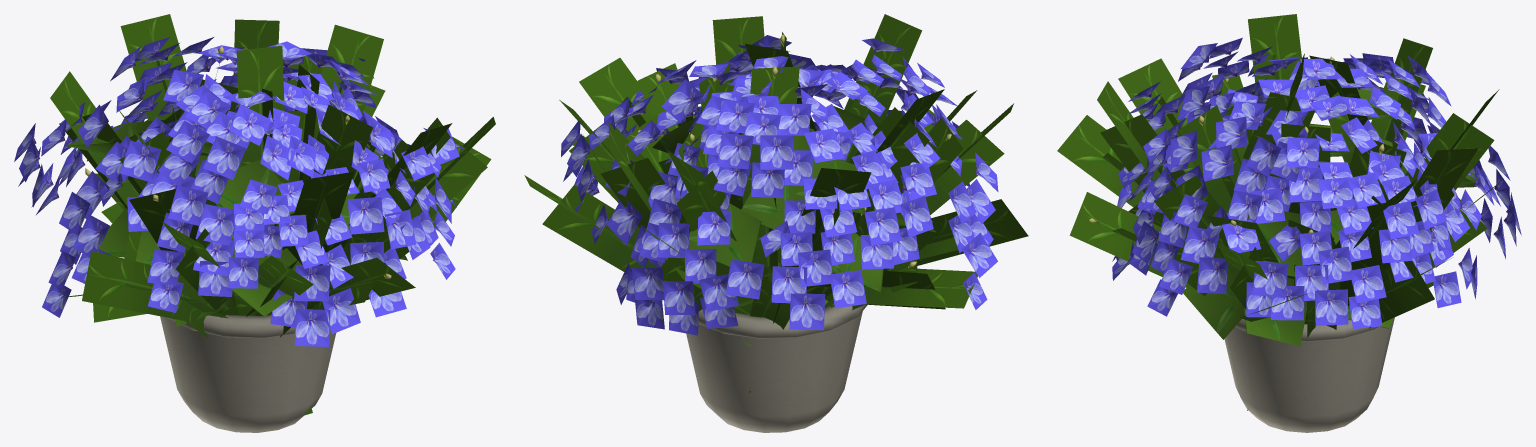
File: Furniture_foliageplant_11_LOD0.fbx
The picture shows the model from 3 angles, left to right: view 1: azimuth 30°, elevation 25°; view 2: azimuth 150°, elevation 25°; view 3: azimuth 270°, elevation 25°; orthographic projection. The views are drawn at different scales.
Parts seen in each view (by area): view 1: F_foliageplant_11_LOD0_01, F_foliageplant_11_LOD0_02; view 2: F_foliageplant_11_LOD0_01, F_foliageplant_11_LOD0_02; view 3: F_foliageplant_11_LOD0_01, F_foliageplant_11_LOD0_02.
Boxes of the visible parts, x1=… form: F_foliageplant_11_LOD0_01: x1=14, y1=14, x2=495, y2=415; F_foliageplant_11_LOD0_02: x1=160, y1=314, x2=336, y2=432; F_foliageplant_11_LOD0_01: x1=524, y1=14, x2=1028, y2=392; F_foliageplant_11_LOD0_02: x1=686, y1=304, x2=867, y2=432; F_foliageplant_11_LOD0_01: x1=1057, y1=14, x2=1521, y2=410; F_foliageplant_11_LOD0_02: x1=1224, y1=317, x2=1394, y2=432.
Bounding box in the file's own units: 60.69 × 49.43 × 58.36.
